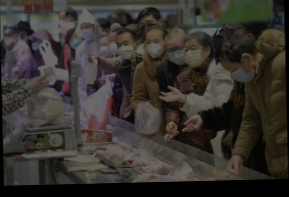with_mask: (225, 63, 257, 85), (183, 43, 205, 69), (165, 43, 187, 66), (145, 36, 166, 58), (116, 38, 134, 59), (79, 23, 96, 41), (66, 32, 83, 49), (108, 36, 119, 56), (98, 40, 109, 57), (2, 33, 13, 46), (30, 39, 40, 51)
